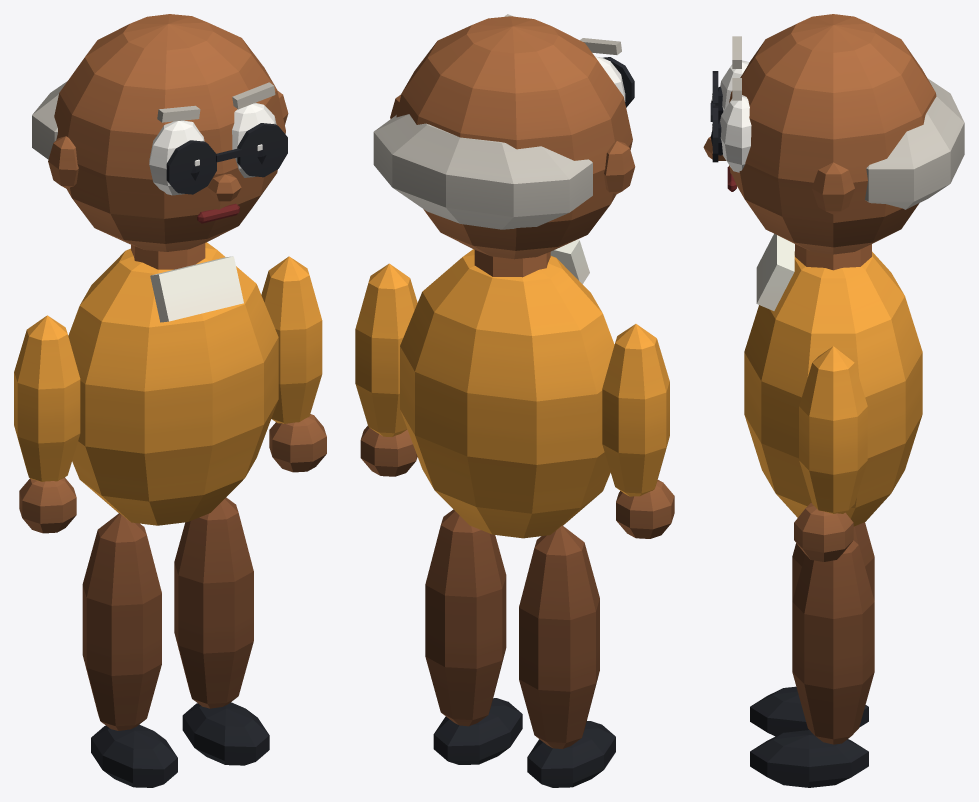
The model's file is Passageiro_3.fbx.
The picture shows the model from 3 angles, left to right: view 1: azimuth 30°, elevation 25°; view 2: azimuth 150°, elevation 25°; view 3: azimuth 270°, elevation 25°; orthographic projection. The views are drawn at different scales.
Parts seen in each view (by area): view 1: Corpo, Cabeca, Perna_D, Perna_E, Braco_D, Braco_E; view 2: Corpo, Cabeca, Perna_D, Perna_E, Braco_D, Braco_E; view 3: Cabeca, Corpo, Perna_E, Braco_E, Perna_D.
Boxes of the visible parts, x1=… form: Corpo: x1=68, y1=242, x2=278, y2=525; Cabeca: x1=32, y1=14, x2=288, y2=251; Perna_D: x1=82, y1=513, x2=177, y2=787; Perna_E: x1=174, y1=497, x2=269, y2=765; Braco_D: x1=14, y1=315, x2=80, y2=533; Braco_E: x1=261, y1=256, x2=326, y2=472; Corpo: x1=400, y1=239, x2=614, y2=538; Cabeca: x1=373, y1=14, x2=635, y2=259; Perna_D: x1=519, y1=525, x2=615, y2=787; Perna_E: x1=425, y1=509, x2=522, y2=764; Braco_D: x1=602, y1=324, x2=674, y2=538; Braco_E: x1=355, y1=263, x2=417, y2=476; Cabeca: x1=703, y1=14, x2=964, y2=254; Corpo: x1=744, y1=233, x2=922, y2=526; Perna_E: x1=750, y1=540, x2=874, y2=787; Braco_E: x1=794, y1=346, x2=867, y2=561; Perna_D: x1=750, y1=522, x2=874, y2=736.
Size of the model in its own units: 0.7236 by 1.68 by 0.5422.
